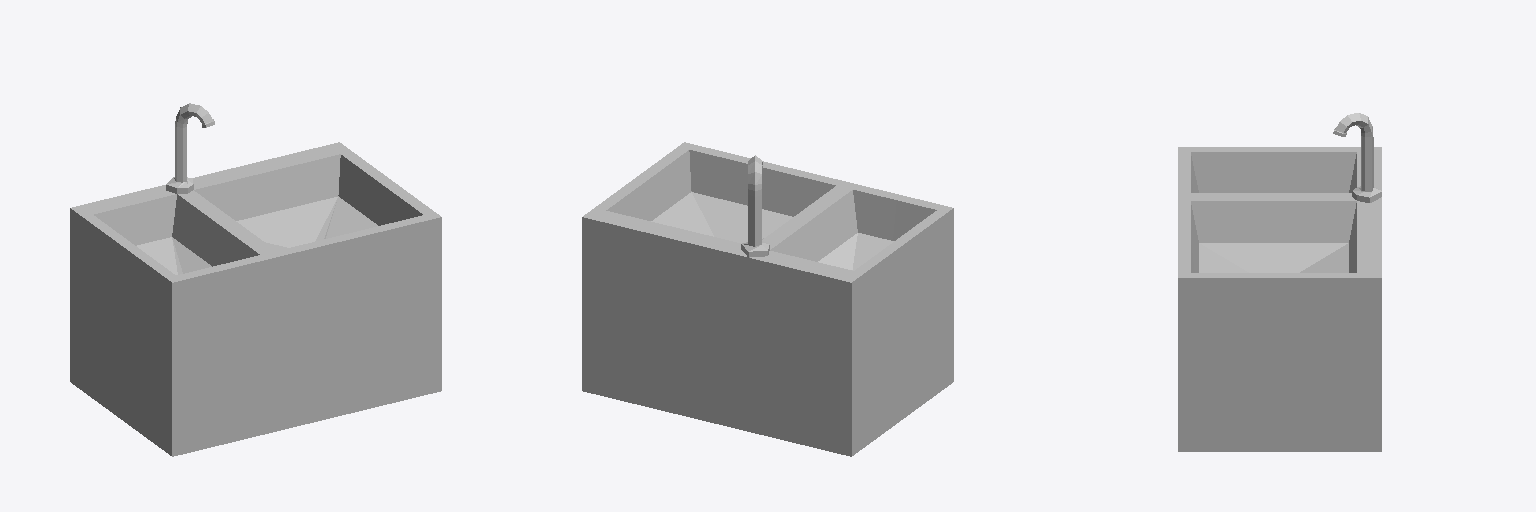
The model's file is sink.obj.
The picture shows the model from 3 angles: view 1: azimuth 30°, elevation 25°; view 2: azimuth 150°, elevation 25°; view 3: azimuth 270°, elevation 25°; orthographic projection.
Visible parts, largest first — view 1: pCube40; view 2: pCube40; view 3: pCube40.
Part boxes in pixels (x1,y1,x2,y2): pCube40: (70, 103, 441, 456); pCube40: (582, 142, 953, 456); pCube40: (1178, 113, 1381, 451).
Bounding box in the file's own units: 4.86 × 4.5 × 3.19.